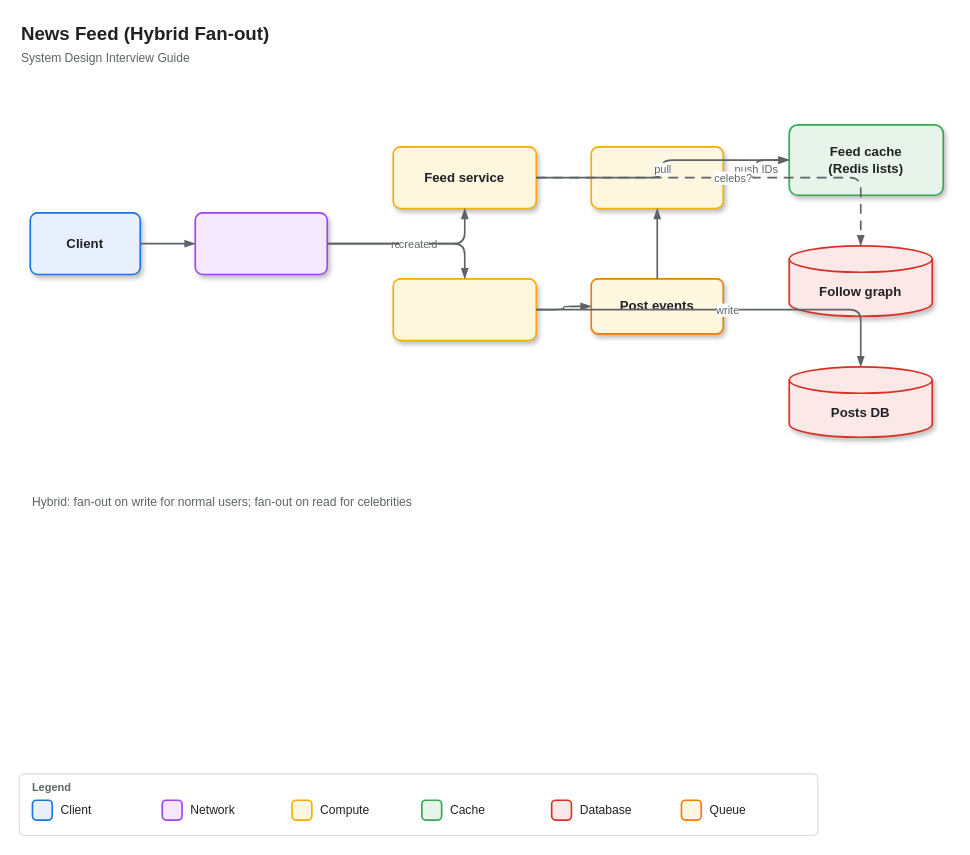
Image size: 970x855. Some labels were removed from this diagram. Here are the shapes that lost their labels. From the top down, the centre of each, then its label:
At (658,178): "Fan-out workers".
At (262,244): "API / BFF".
At (465,310): "Post service".
